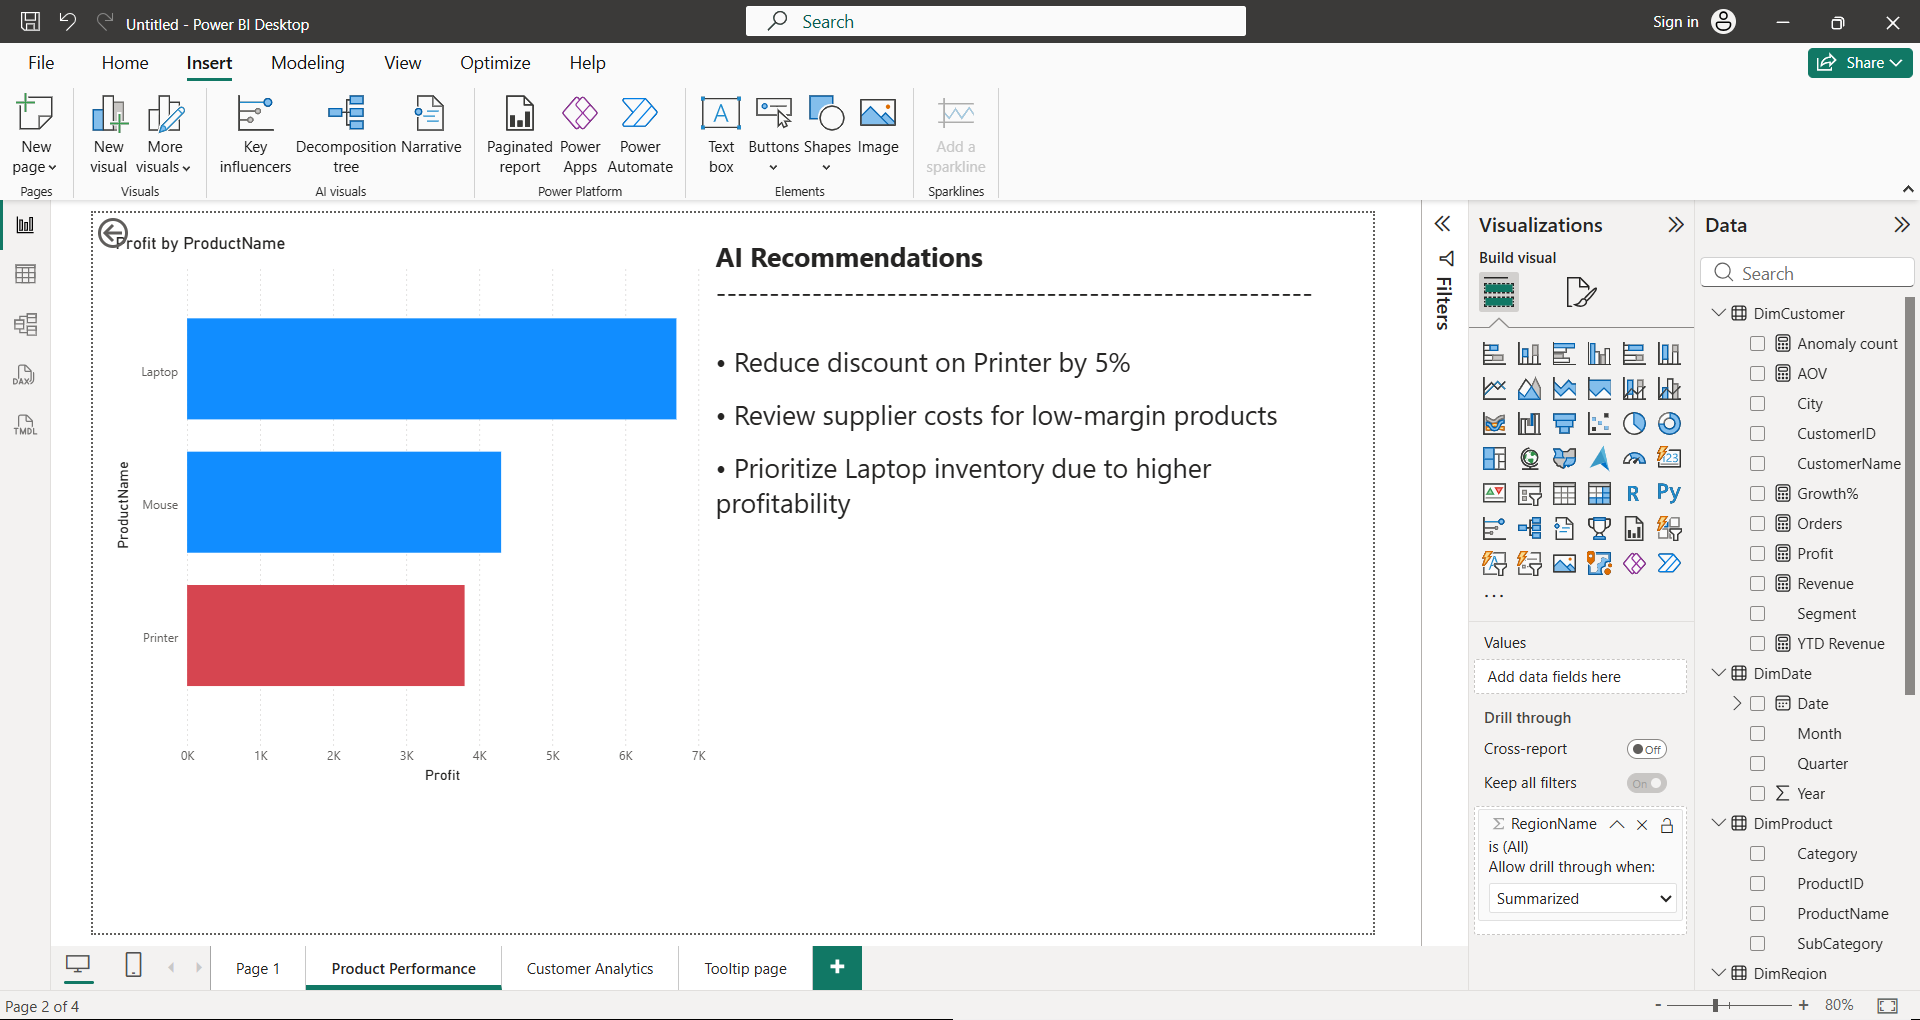

What the dashboard file says about the page in this screenshot:
{"tool":"powerbi","page":{"name":"Product Performance","canvas":[1280,720],"ordinal":1},"visuals":[{"type":"clusteredBarChart","fields":{"Category":["DimProduct.ProductName"],"Y":["DimCustomer.Profit"]},"box":[17.5,20,600,555],"z":0},{"type":"actionButton","box":[0,0,100,40],"z":1000},{"type":"textbox","box":[617.5,20,610,340],"z":1001}]}

Visuals, with their boxes on the page's 1280x720 design canvas (x1, y1, x2, y2). These are canvas units, not pixel positions in the 1920x1020 screenshot, which may show the page scaled, cropped or inside an application window:
clusteredBarChart - DimProduct.ProductName x DimCustomer.Profit: region(18, 20, 618, 575)
actionButton: region(0, 0, 100, 40)
textbox: region(618, 20, 1228, 360)
